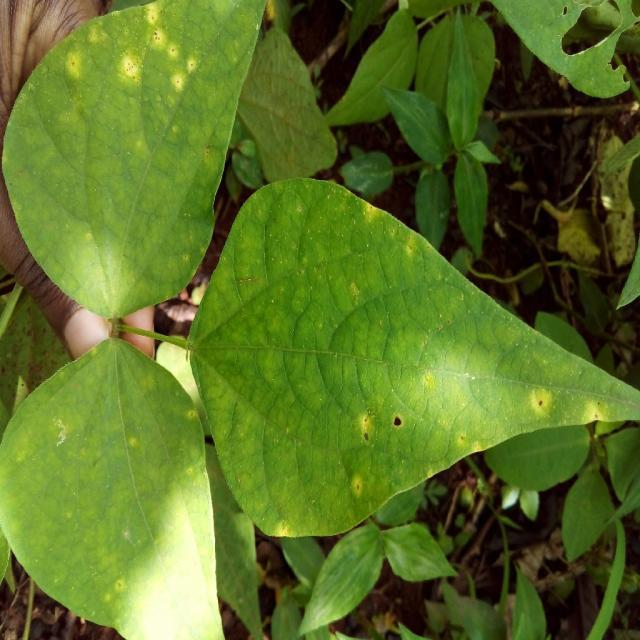hawar: (173, 176, 631, 541), (0, 355, 238, 640), (44, 0, 220, 327)
mozaik: (378, 401, 429, 451)
